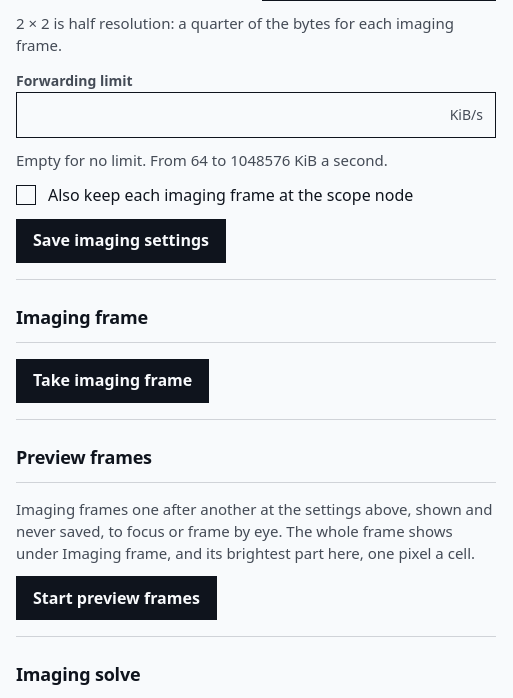
Test: ImagingPage's imaging frame › shows a refused frame as an alert
The image size is (513, 698).
(page scrolled)
What coordinates should you click on to do the following:
click the button "Take imaging frame"
I would click on:
 (113, 381)
Its box is [16,359,209,403].
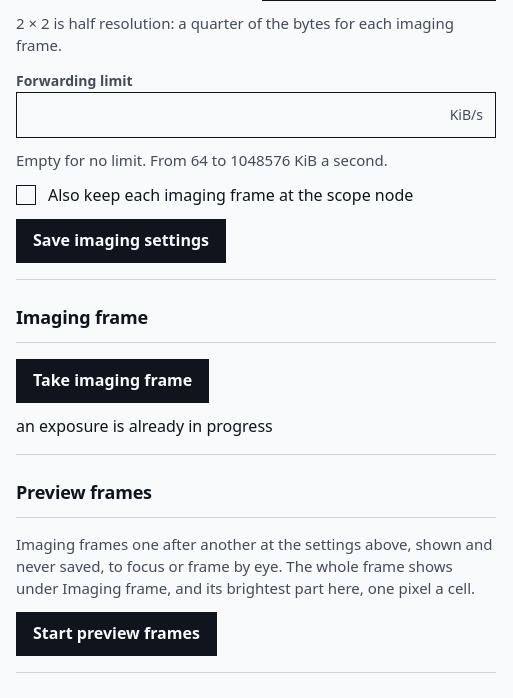
Expected: the message reads "an exposure is already in progress", [16,415,273,437]
